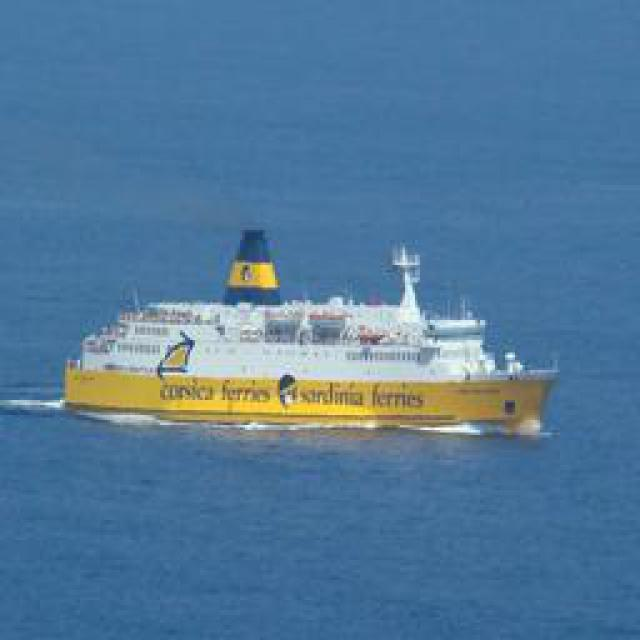Ship: (70, 258, 565, 433)
